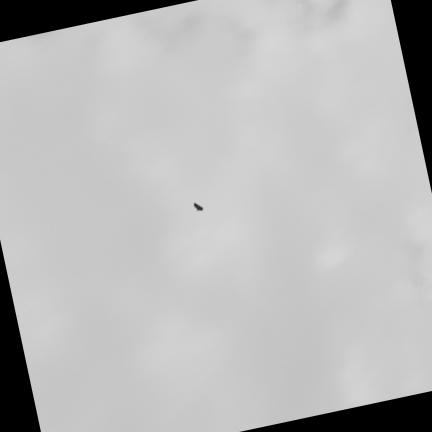Shahed: (193, 201, 204, 211)
